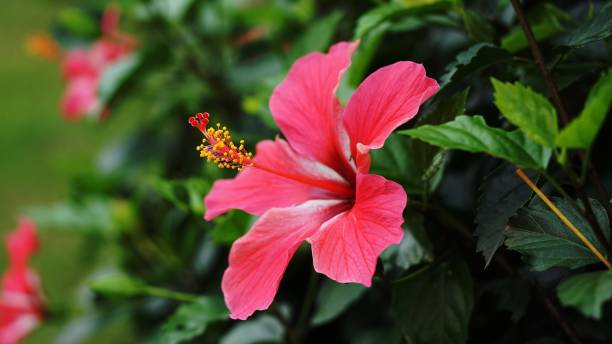Hibiscus: (186, 52, 418, 319), (14, 24, 132, 115), (4, 228, 47, 344)
